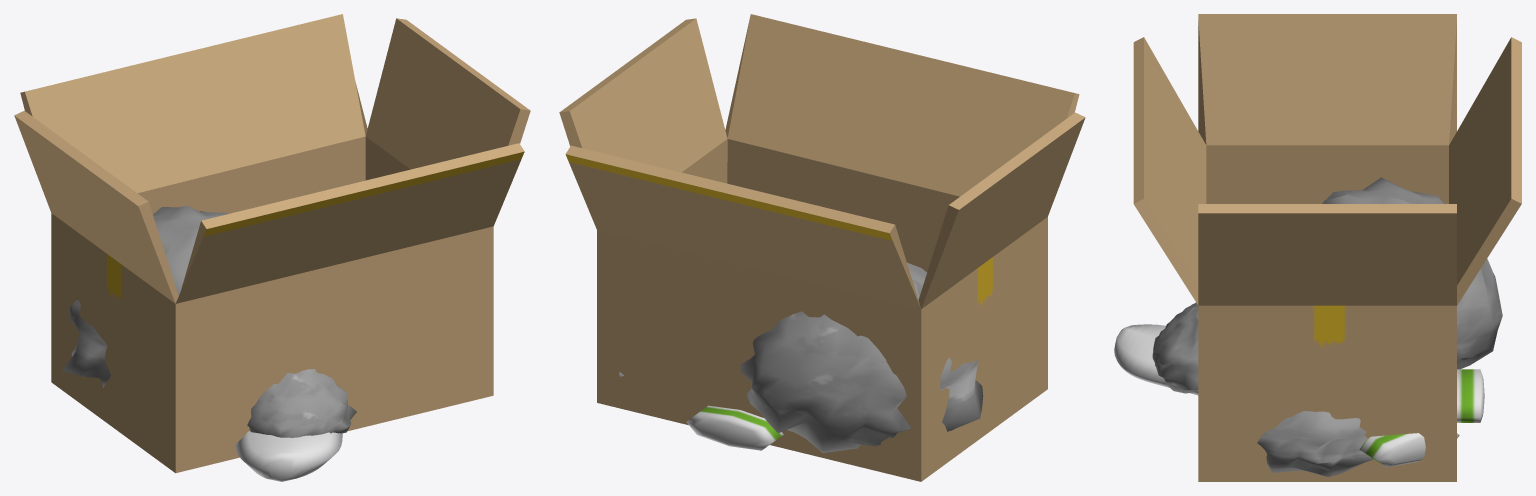
3 renders of one model, left to right at view 1: azimuth 30°, elevation 25°; view 2: azimuth 150°, elevation 25°; view 3: azimuth 270°, elevation 25°, orthographic. The views are drawn at different scales.
Visible parts, largest first — view 1: Box_Obj, Dust_Obj, Socks_Obj; view 2: Box_Obj, Dust_Obj, Socks_Obj; view 3: Box_Obj, Dust_Obj, Socks_Obj.
Part boxes in pixels (x1=…): Box_Obj: x1=14, y1=14, x2=530, y2=473; Dust_Obj: x1=62, y1=205, x2=356, y2=437; Socks_Obj: x1=235, y1=431, x2=342, y2=481; Box_Obj: x1=559, y1=14, x2=1085, y2=481; Dust_Obj: x1=740, y1=262, x2=983, y2=453; Socks_Obj: x1=619, y1=372, x2=783, y2=450; Box_Obj: x1=1133, y1=14, x2=1521, y2=481; Dust_Obj: x1=1152, y1=177, x2=1502, y2=476; Socks_Obj: x1=1114, y1=324, x2=1484, y2=467.
Bounding box in the file's own units: 105 × 71.76 × 90.87.
